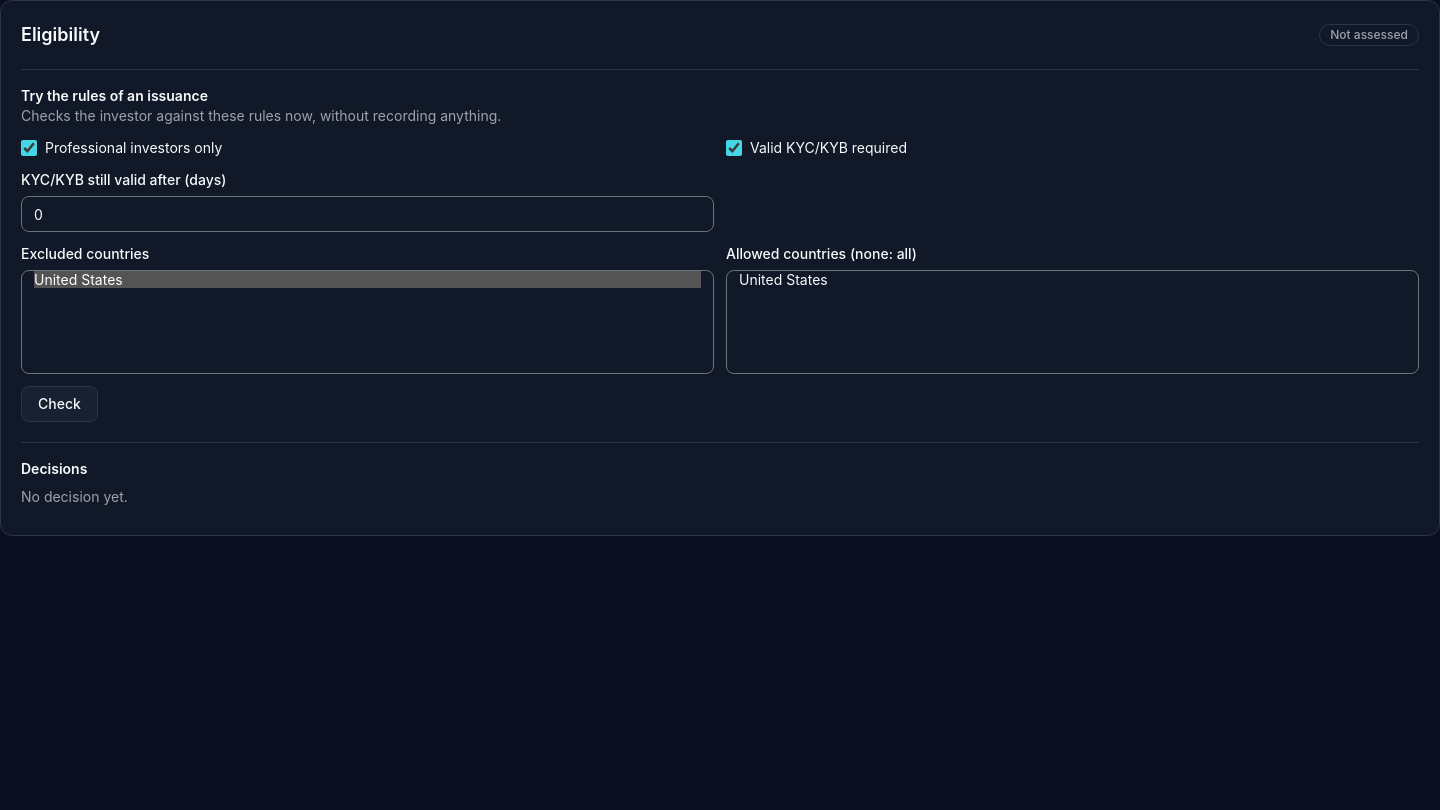
Test: EligibilityPanel › simulates the rules of an issuance and shows the result
The image size is (1440, 810).
Select "United States" in the dropdown labelled "Excluded countries" at (368, 322), box x1=21 y1=270 x2=714 y2=374
Replace the text in the field labelled "KYC/KYB still valid after (days)" with "90" at (368, 214), box x1=21 y1=196 x2=714 y2=232
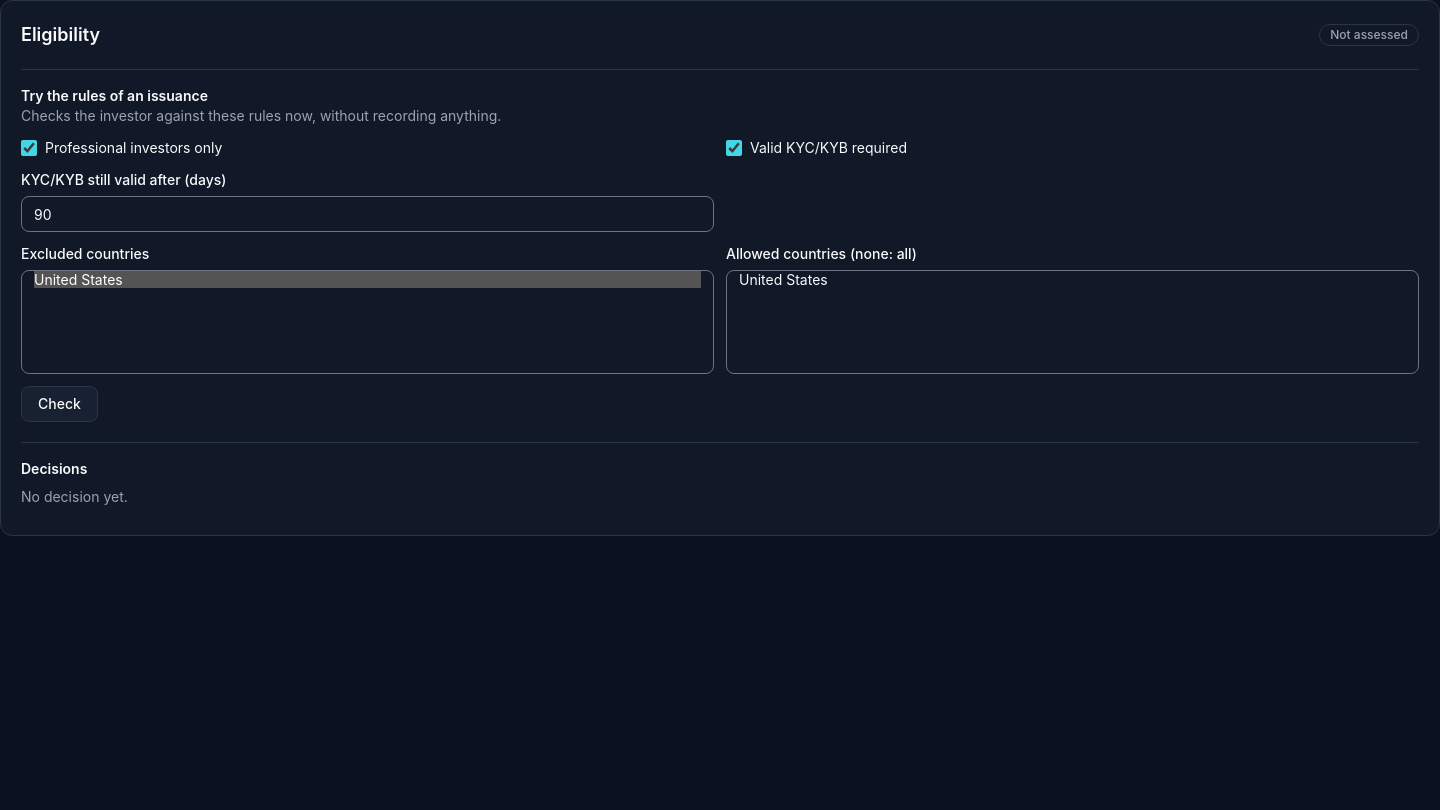
Click the button "Check".
click(59, 404)  # box x1=21 y1=386 x2=98 y2=422
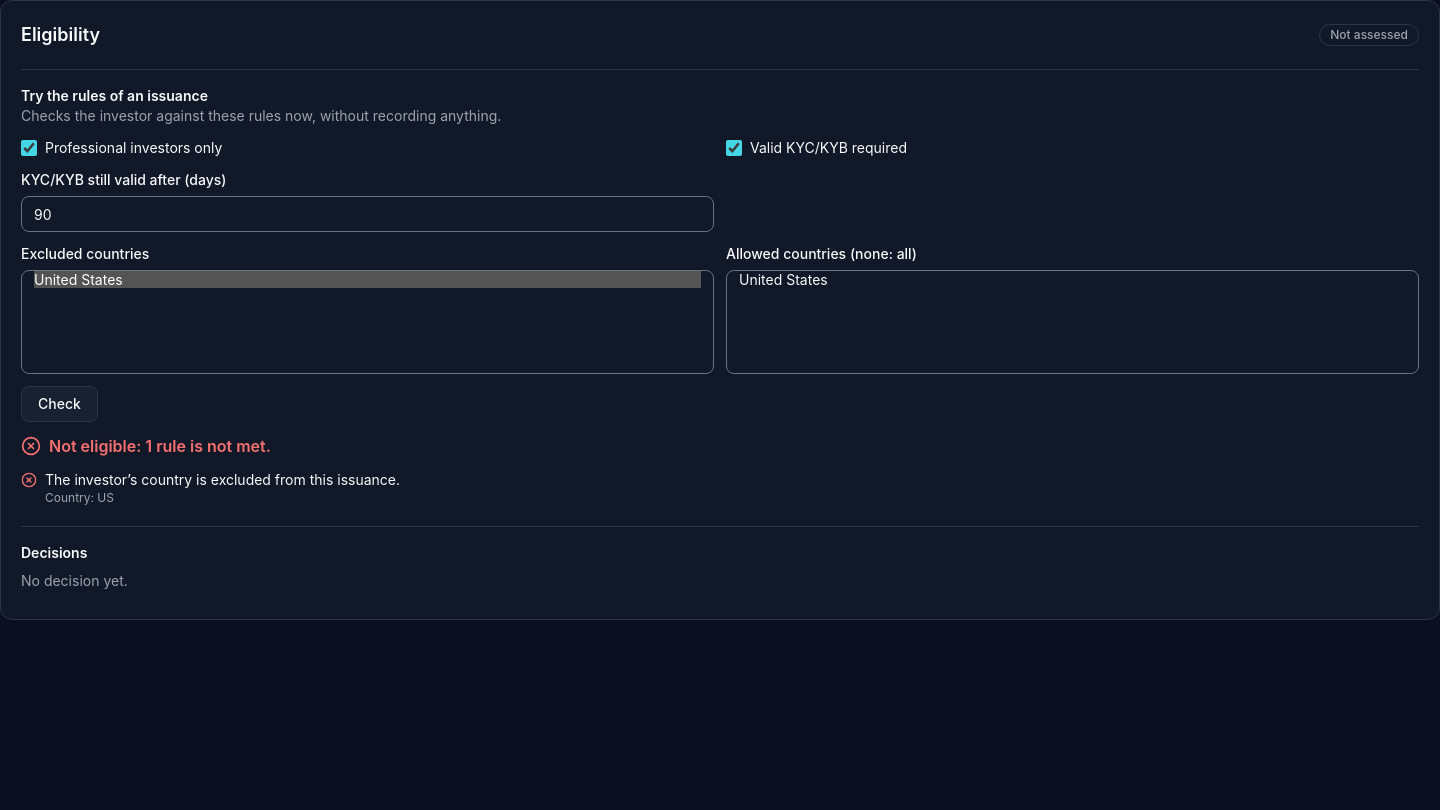
Expected: the text "The investor’s country is excluded from this issuance." is shown, x1=45 y1=471 x2=400 y2=488
